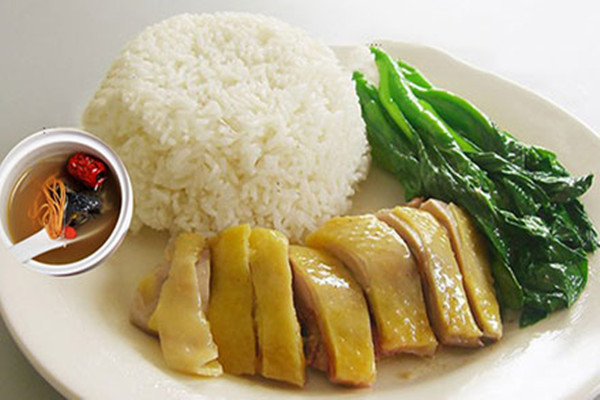chopped lettuce: (361, 50, 600, 309)
plain rice: (105, 14, 364, 228)
